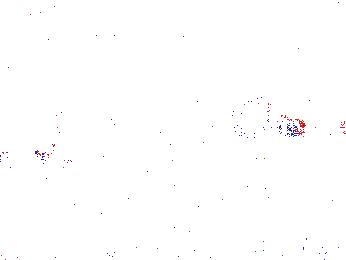flame jellyfish: (230, 94, 306, 143), (33, 142, 91, 203), (245, 160, 314, 205)
